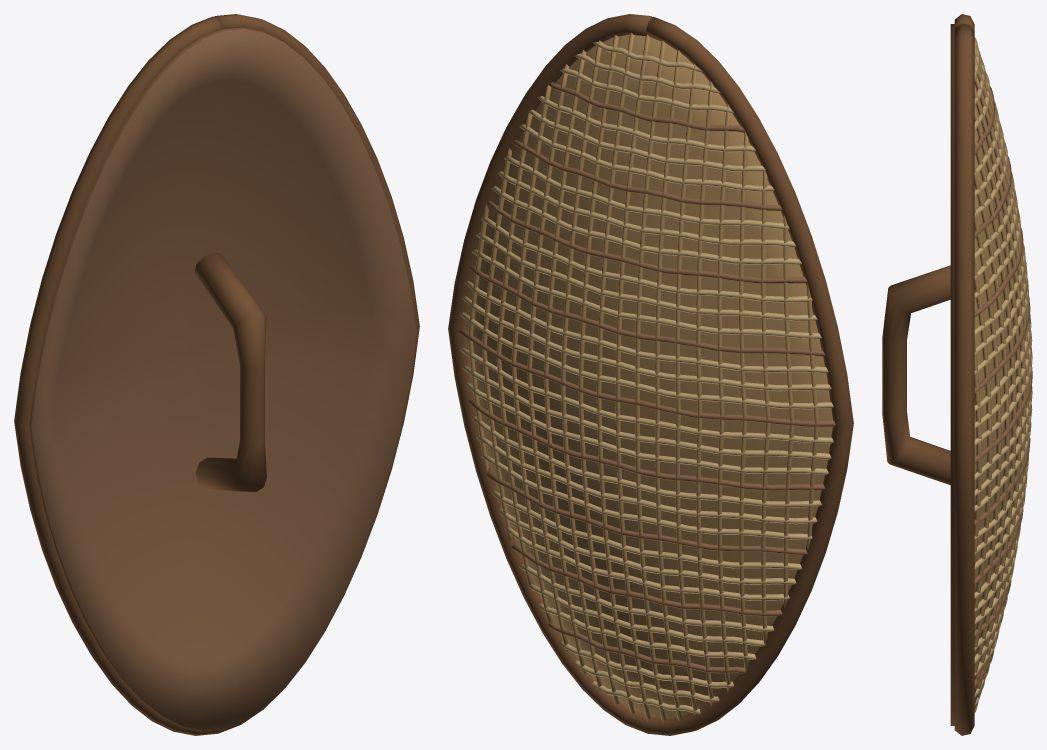
File: shield.glb
3 renders of one model, left to right at view 1: azimuth 30°, elevation 25°; view 2: azimuth 150°, elevation 25°; view 3: azimuth 270°, elevation 25°, orthographic.
Parts seen in each view (by area): view 1: Shield; view 2: Shield; view 3: Shield.
Part boxes in pixels (<box>): Shield: <box>14,14,419,735</box>; Shield: <box>448,14,853,735</box>; Shield: <box>882,14,1032,735</box>.
Bounding box in the file's own units: 0.4415 × 0.7494 × 0.1452.
